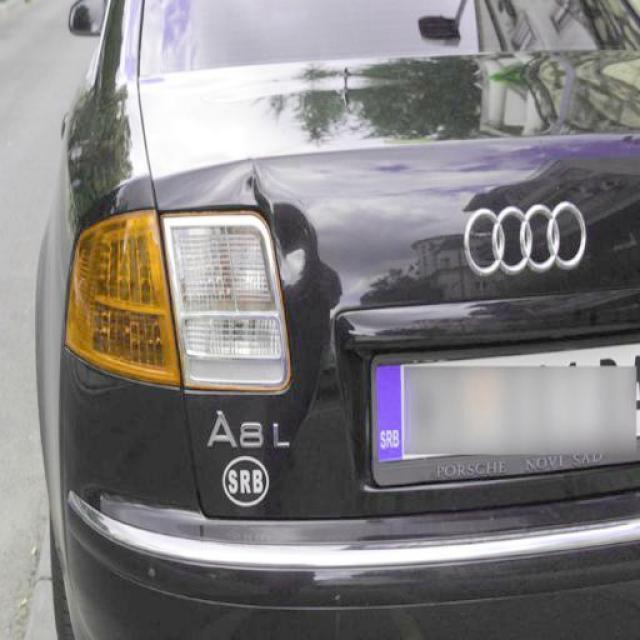car damage: (244, 155, 319, 290)
